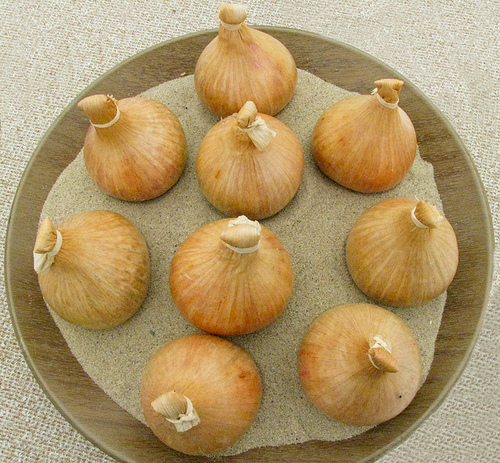onion: (165, 211, 296, 337), (300, 303, 426, 427), (342, 194, 461, 307), (313, 76, 418, 194), (196, 100, 305, 212)
